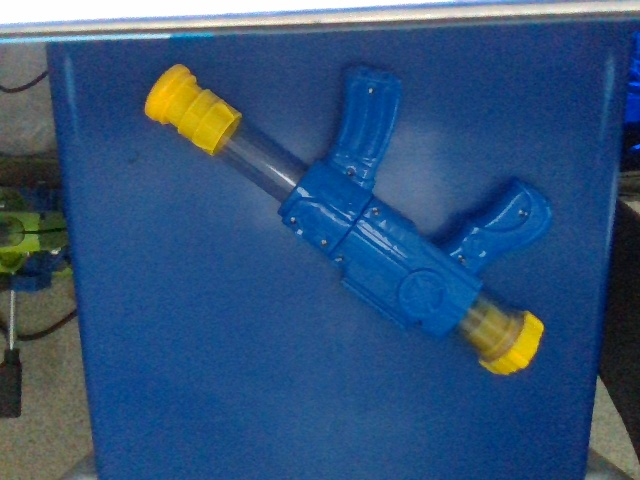screw hole: (517, 208, 529, 218), (346, 166, 356, 177), (456, 254, 466, 264), (320, 238, 329, 248), (371, 205, 380, 215), (413, 319, 423, 328), (368, 86, 377, 95), (334, 256, 344, 264), (290, 217, 297, 226)
toy: (144, 63, 555, 377)
